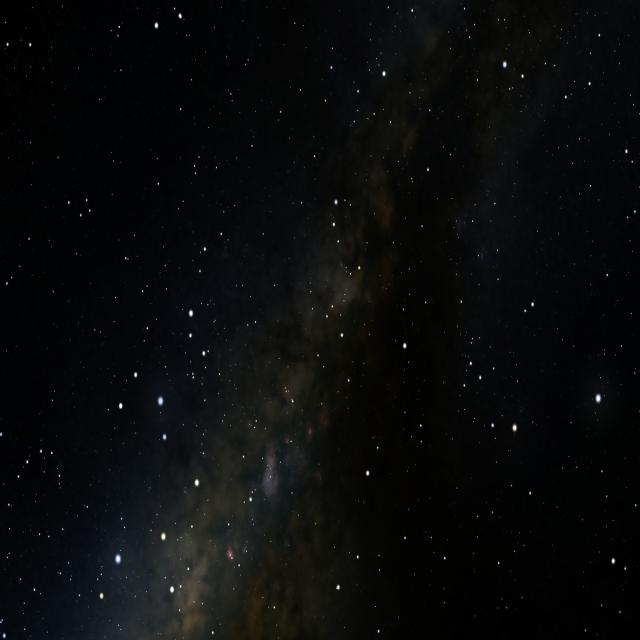Scutum: (253, 249, 369, 410)
